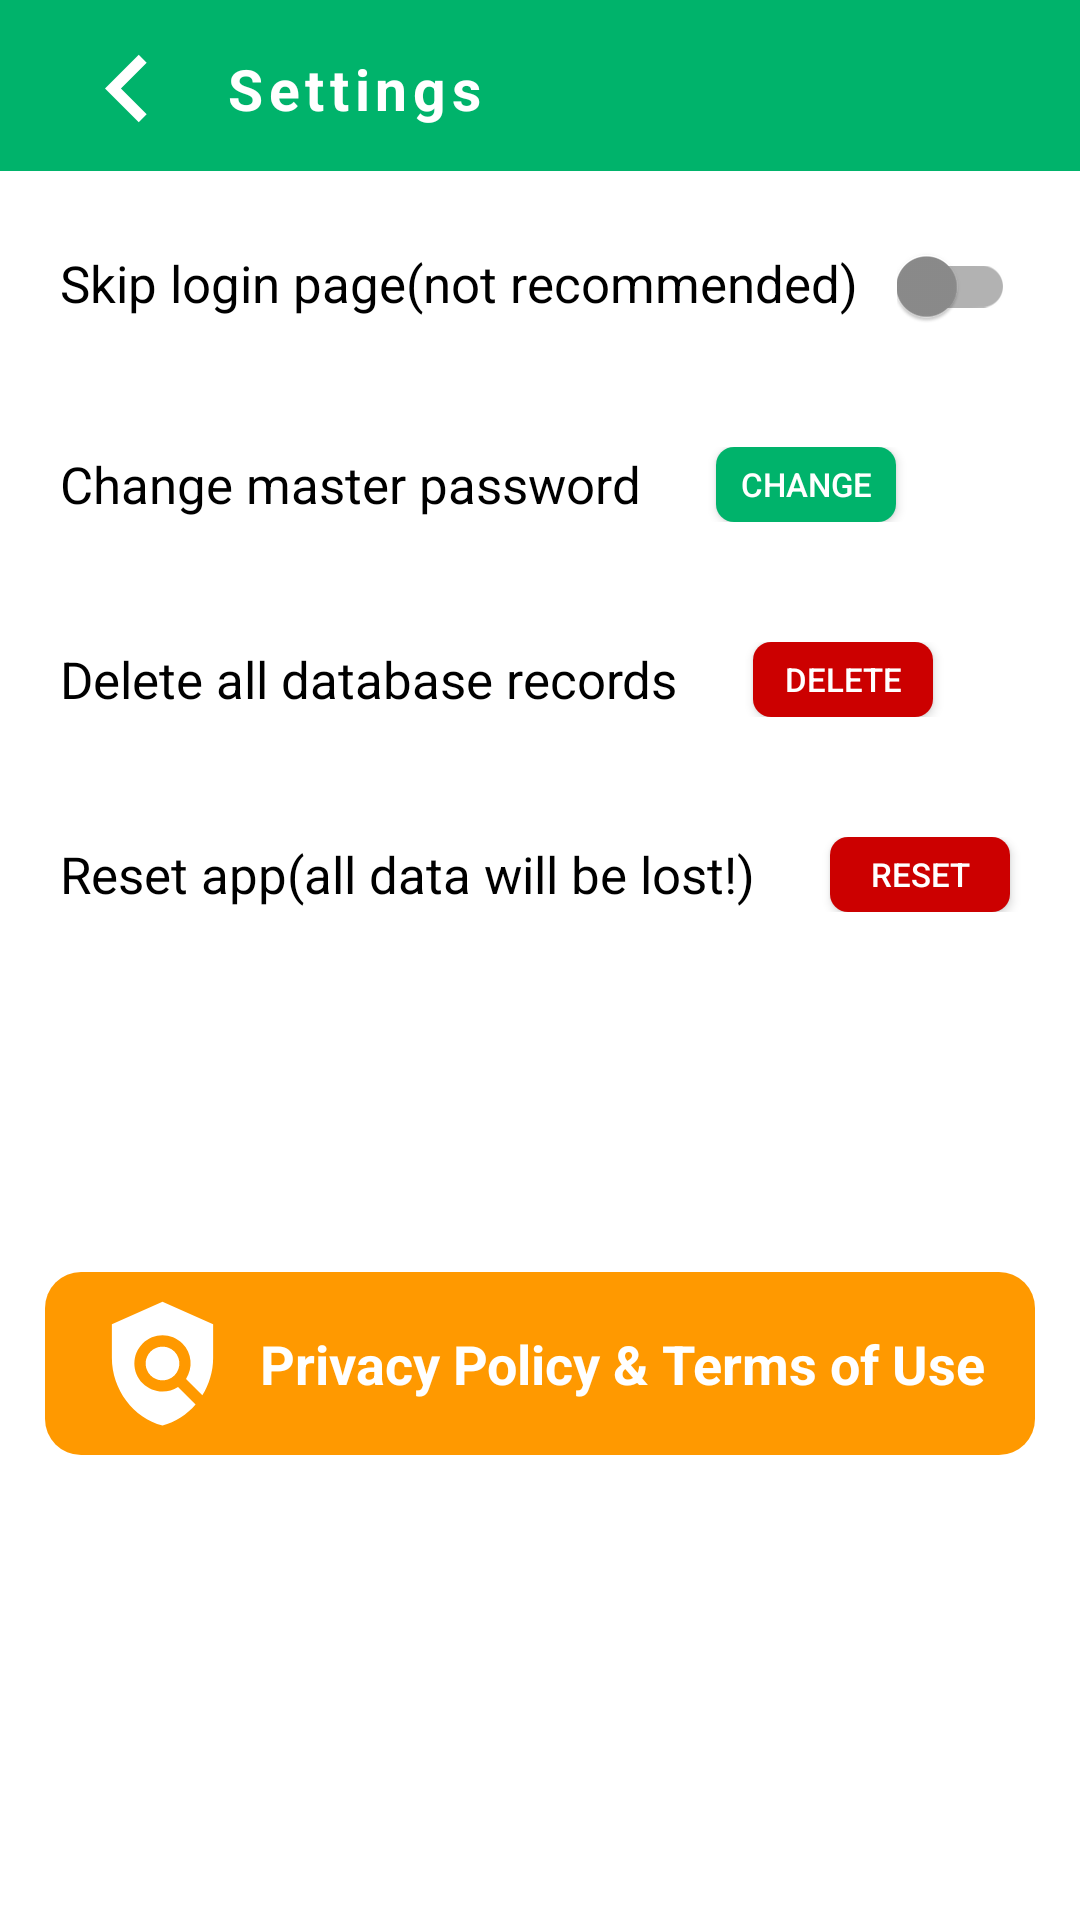

Icon bounding boxes for this 1080w x 1920h phone screenshot, format (x1, y1, x2, y2):
navigate before: (105, 55, 147, 122)
